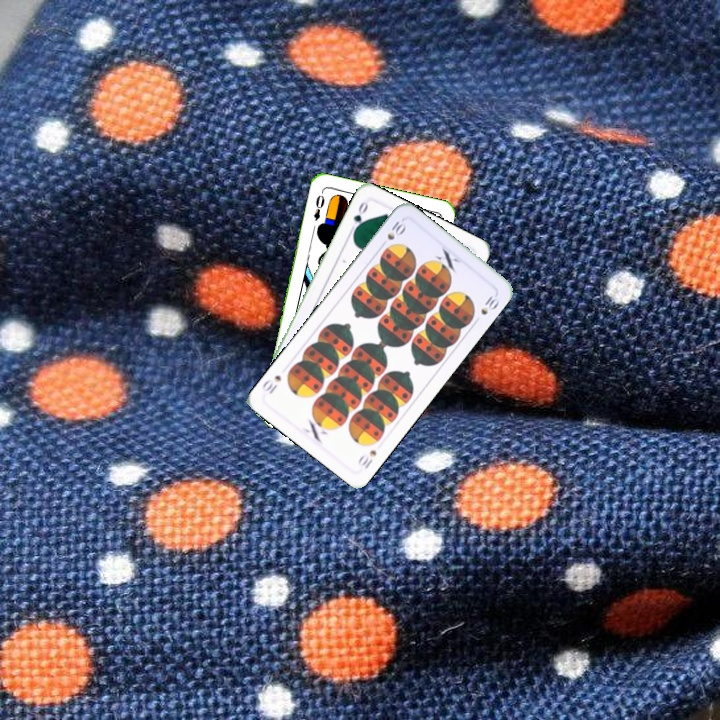EO: (309, 188, 327, 223)
GO: (345, 198, 371, 236)
S10: (377, 216, 409, 250), (354, 446, 379, 472)
